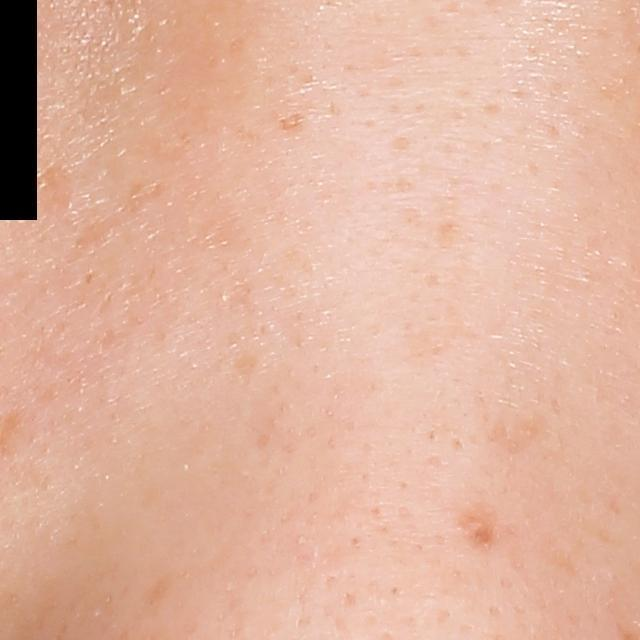melasma: (65, 179, 170, 268), (29, 161, 76, 214), (277, 111, 306, 133)
